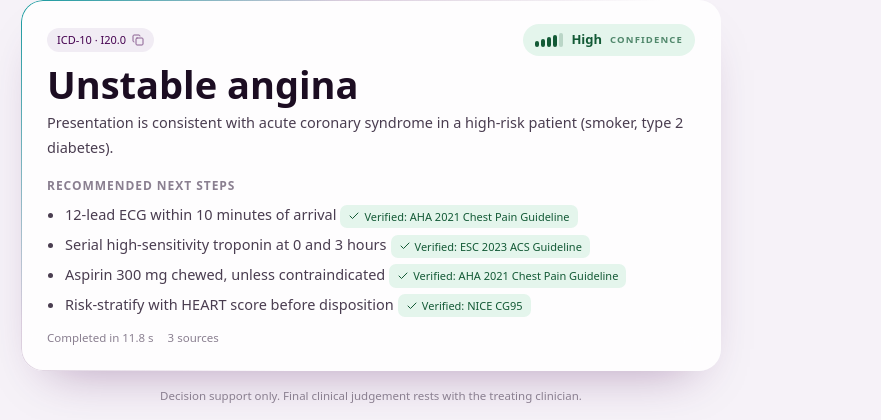
Test: ResultCard › says so when the code can't be copied
This screenshot has width=881, height=420.
Click the button with aria-label "ICD-10 I20.0" at (101, 40), box [47,28,154,52]
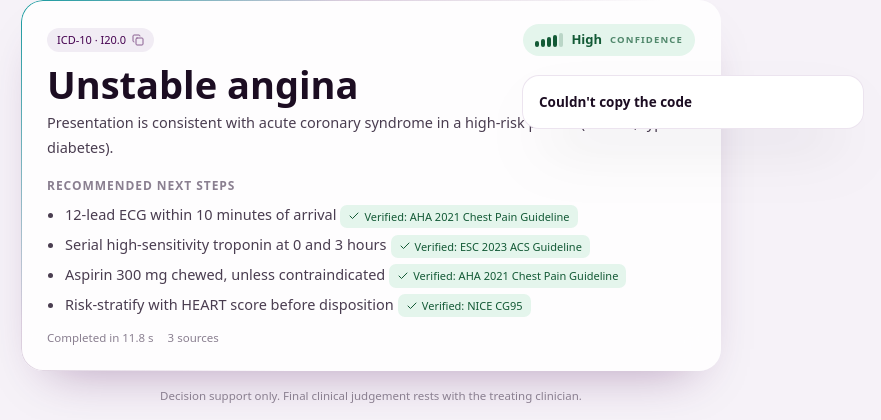
Check: the text "Couldn't copy the code" is shown, box [539,93,692,111]
